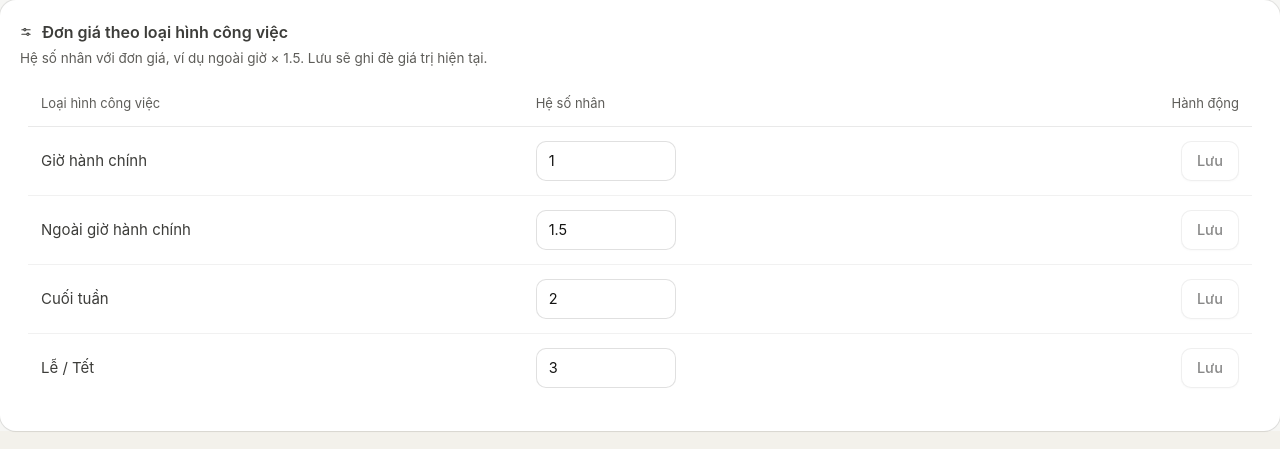
Test: WorkTypeRateManager (NCL-07-CN-006 — Đơn giá theo loại hình công việc) › sửa hệ số OVERTIME thành công thì gọi đúng payload và hiển thị "Đã lưu"
Replace the text in the number field named "Hệ số Ngoài giờ hành chính" with "1.75" at (606, 230), box [536,210,676,250]
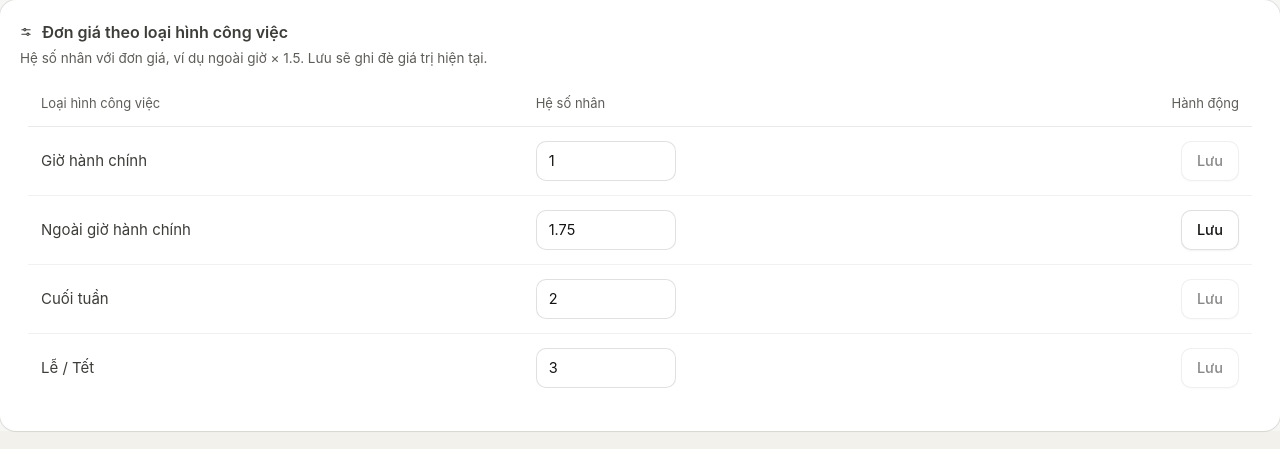
Click the button "Lưu" in the row of "Ngoài giờ hành chính" at (1210, 230), box [1181,210,1239,250]
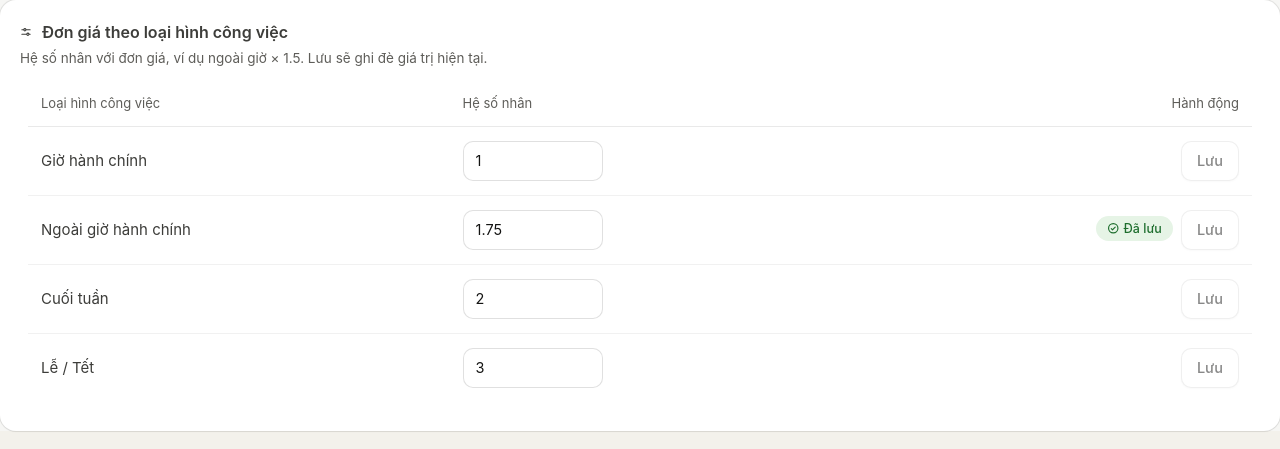
Expected: the text "Đã lưu" is shown, [1096,216,1173,241]
